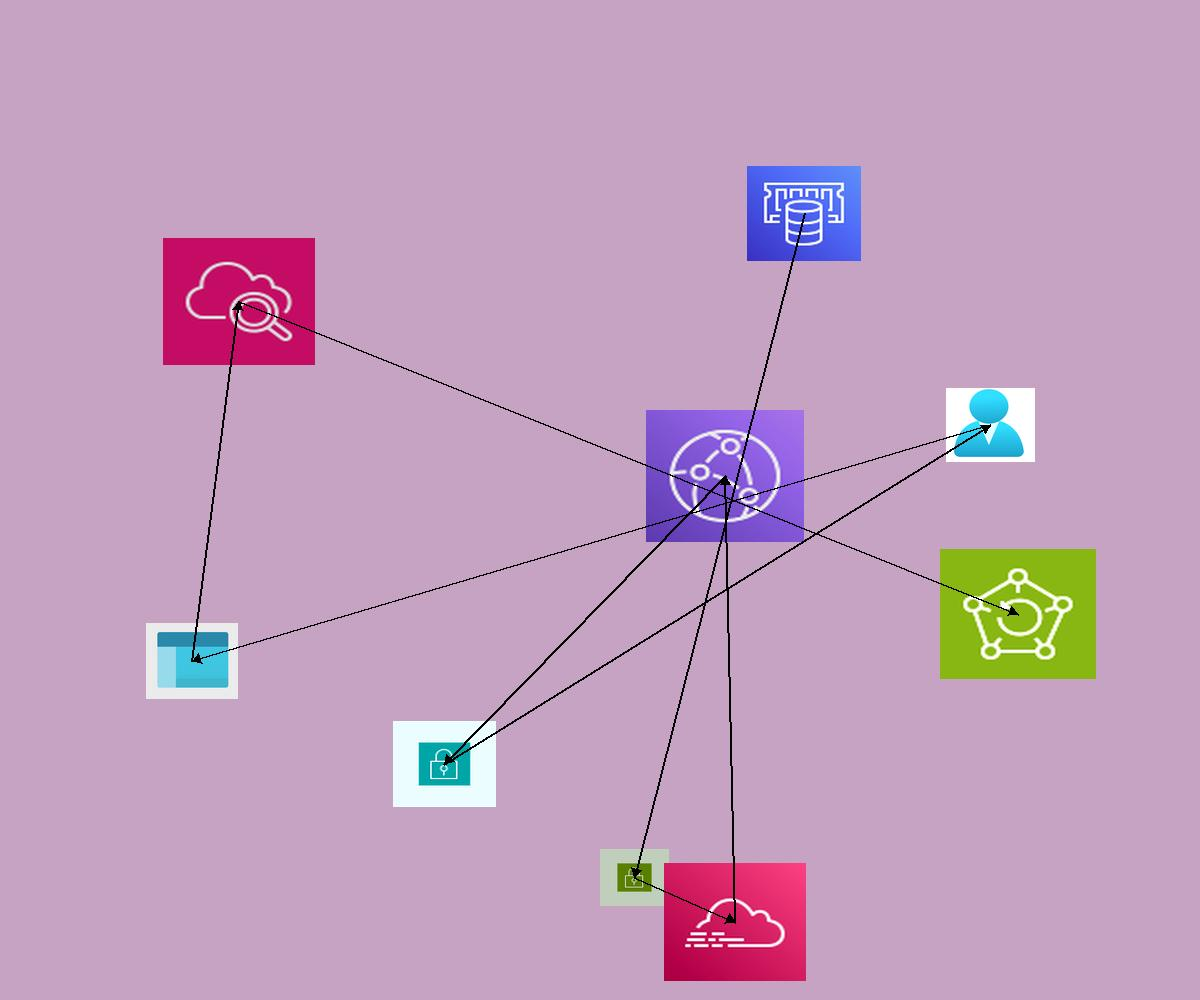AWS-Backup: (940, 549, 1096, 679)
AWS-CloudFront: (646, 410, 804, 542)
AWS-CloudTrail: (664, 863, 806, 981)
AWS-CloudWatch: (163, 238, 315, 365)
AWS-ElastiCache: (747, 166, 861, 261)
AWS-Private-subnet: (393, 721, 496, 807)
AWS-Public-subnet: (600, 849, 669, 906)
Azure_management-portal: (146, 623, 238, 699)
Azure_users: (946, 388, 1035, 462)
